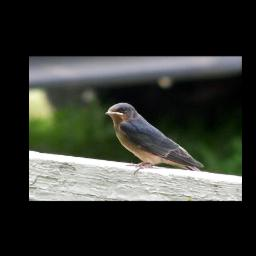Swallow: (105, 102, 205, 175)
